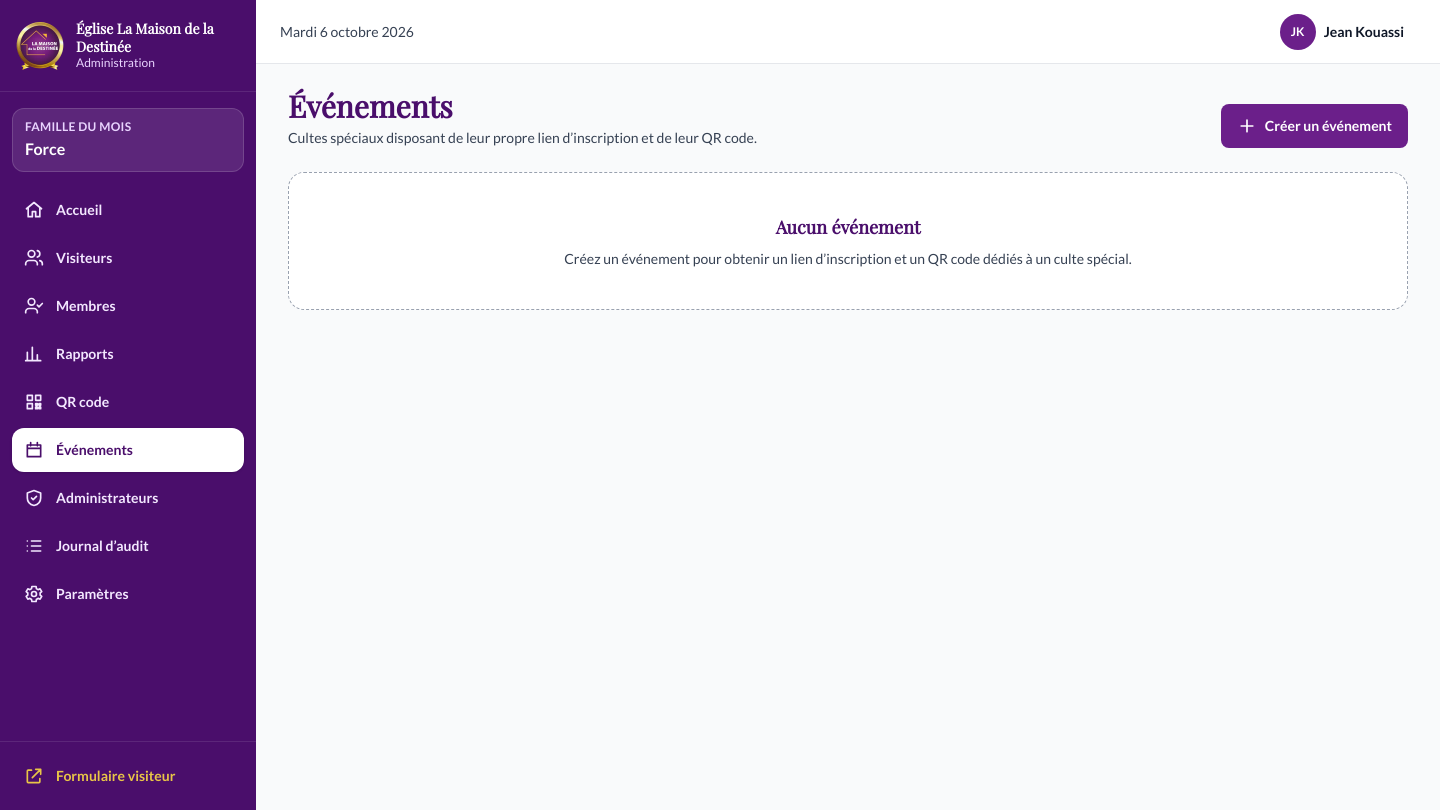
Test: événements — création › refuse un lien invalide sans appeler l’API
Click the button "Créer un événement".
click(1314, 126)  # box x1=1221 y1=104 x2=1408 y2=148
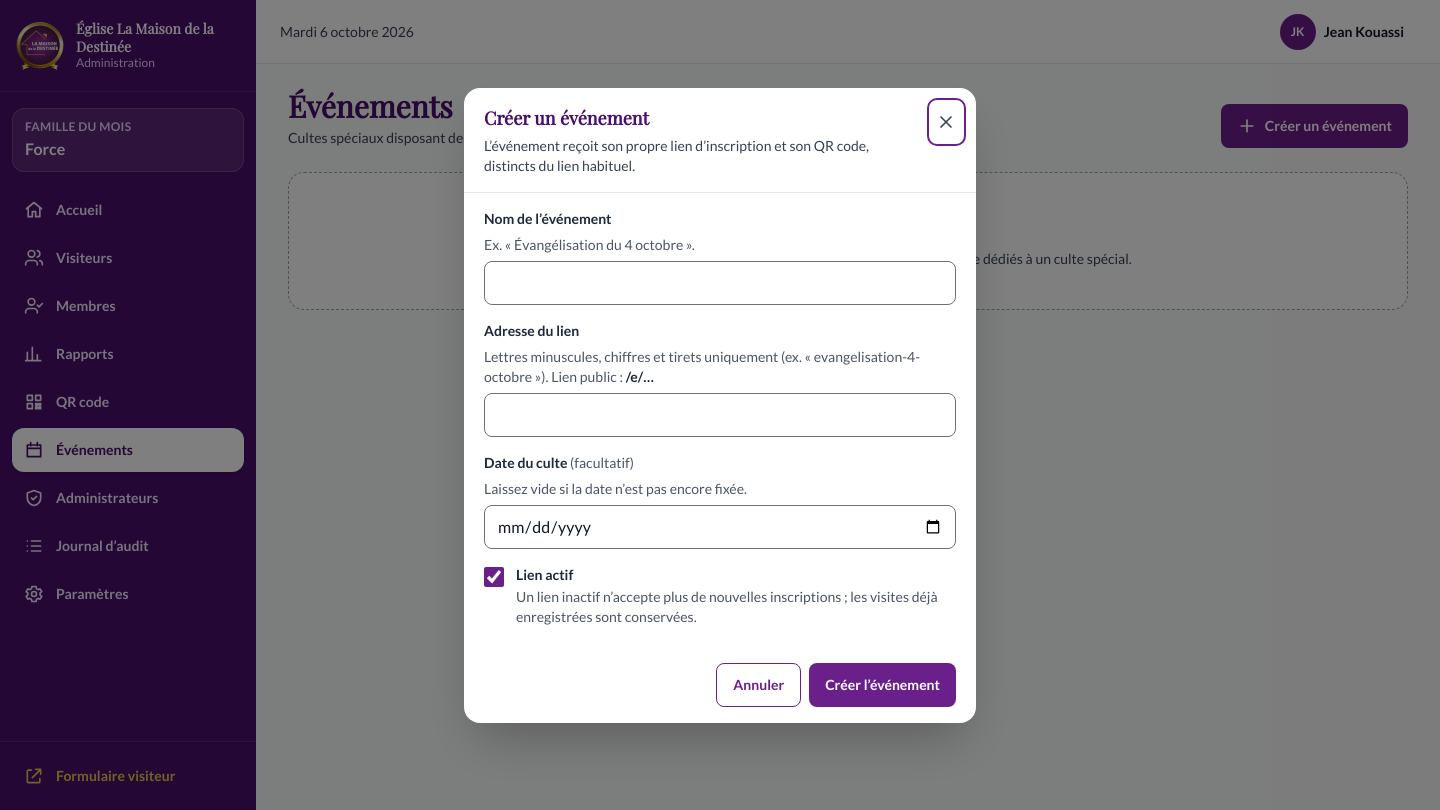
Type "Soirée de louange" into the field labelled "Nom de l’événement".
click(720, 282); type("Soirée de louange")  # box x1=484 y1=260 x2=956 y2=304
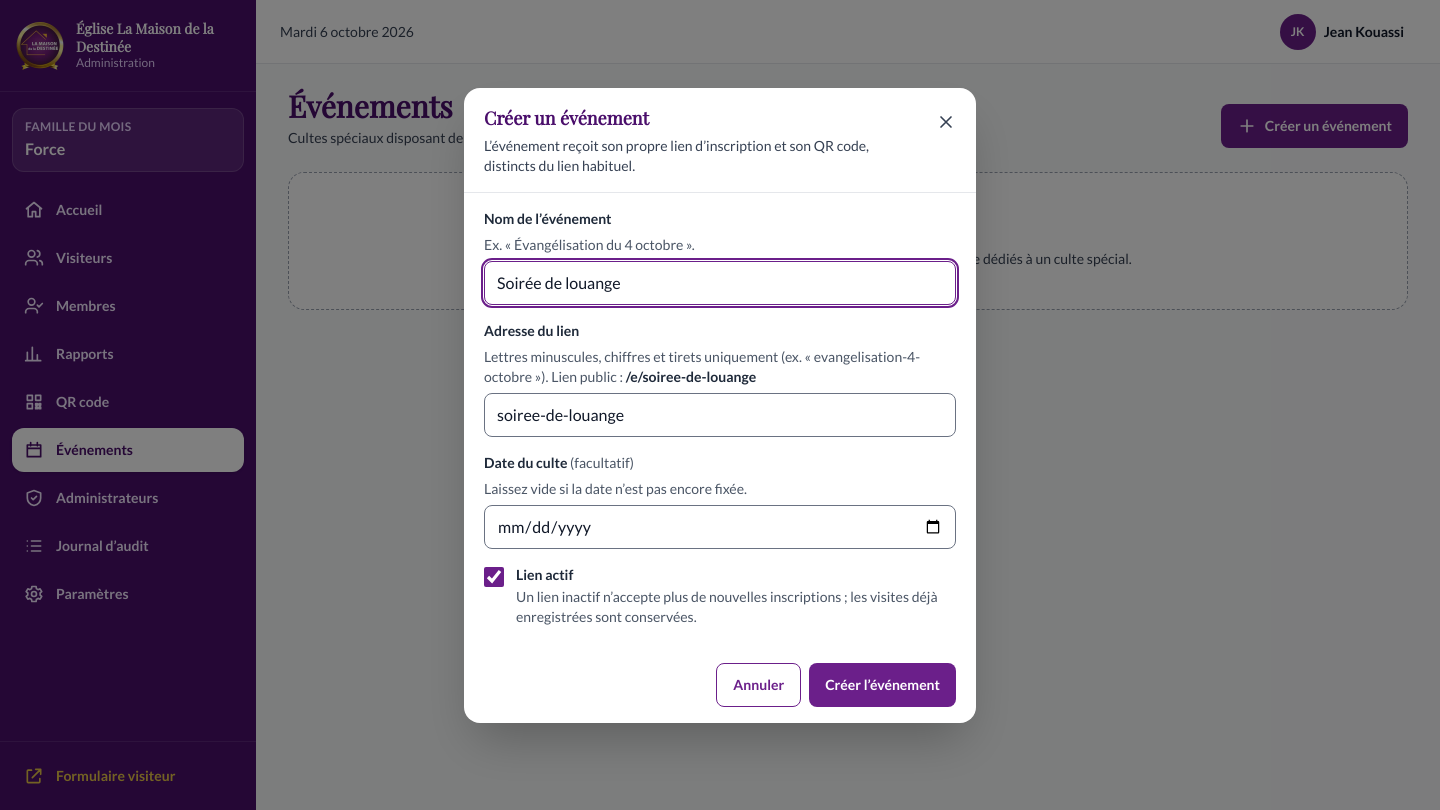
Replace the text in the field labelled "Adresse du lien" with "Soirée Louange" at (720, 414), box x1=484 y1=392 x2=956 y2=436
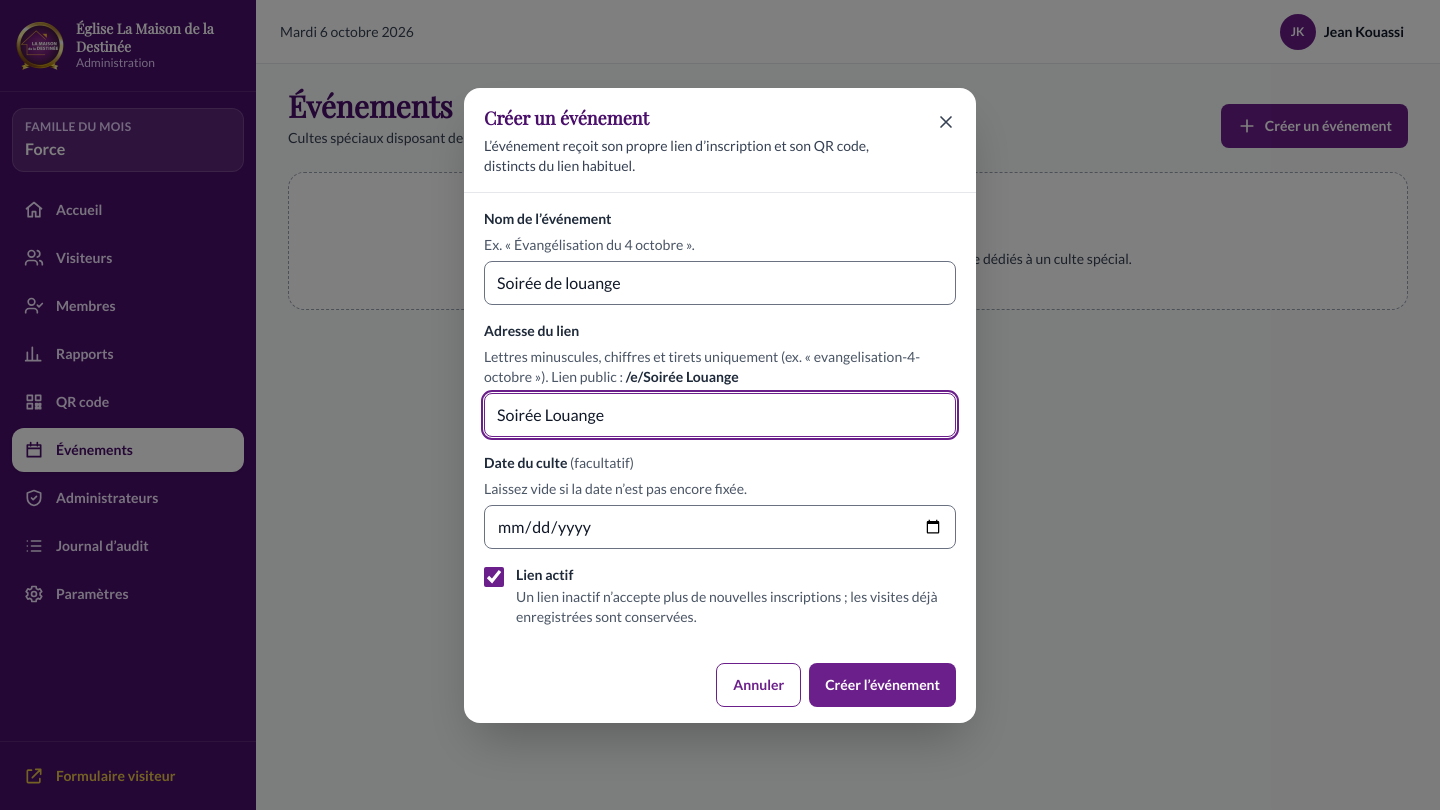
Click the button "Créer l’événement".
click(883, 684)  # box x1=809 y1=662 x2=956 y2=706
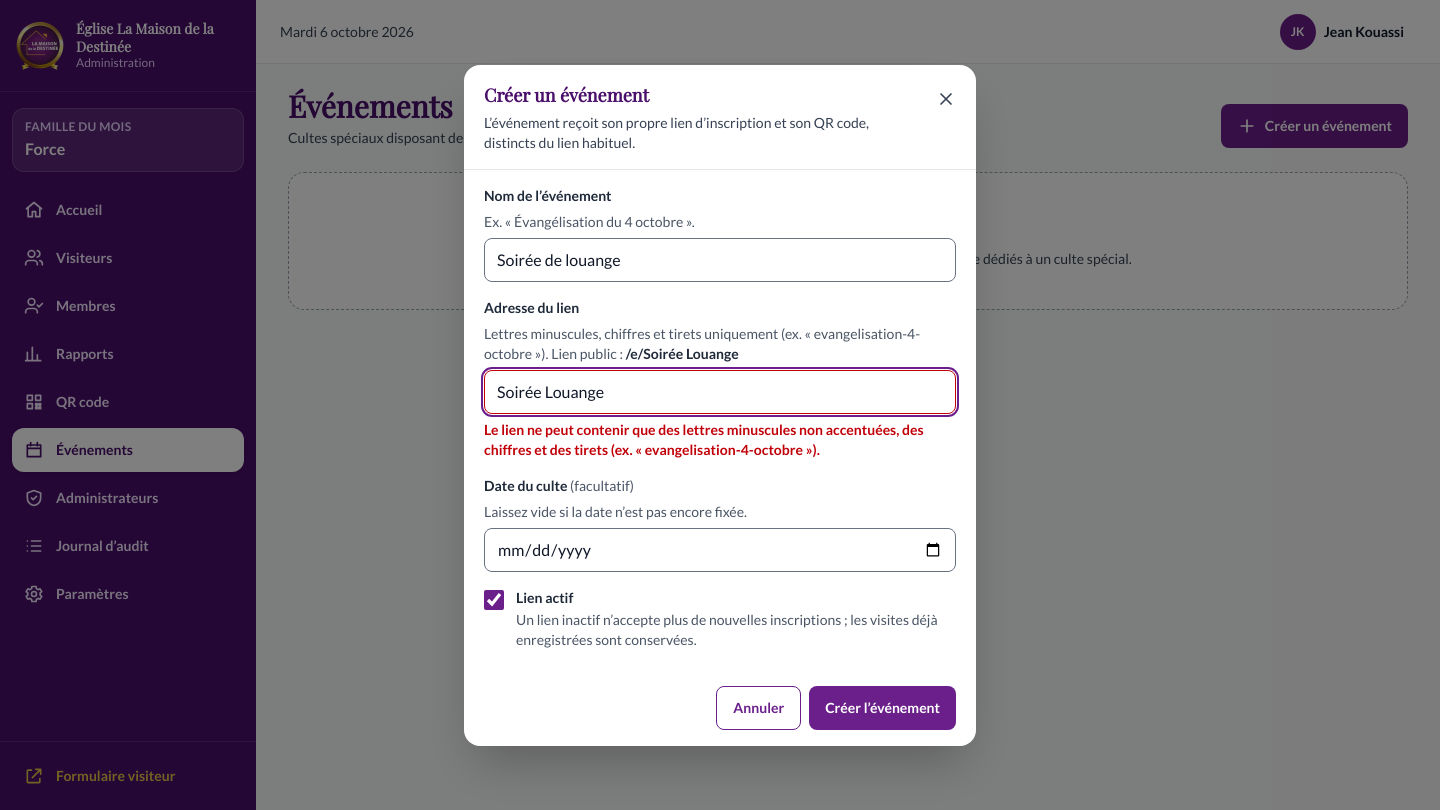
Expected: the text "ne peut contenir que des lettres minuscules" is shown, x1=484 y1=420 x2=924 y2=458
